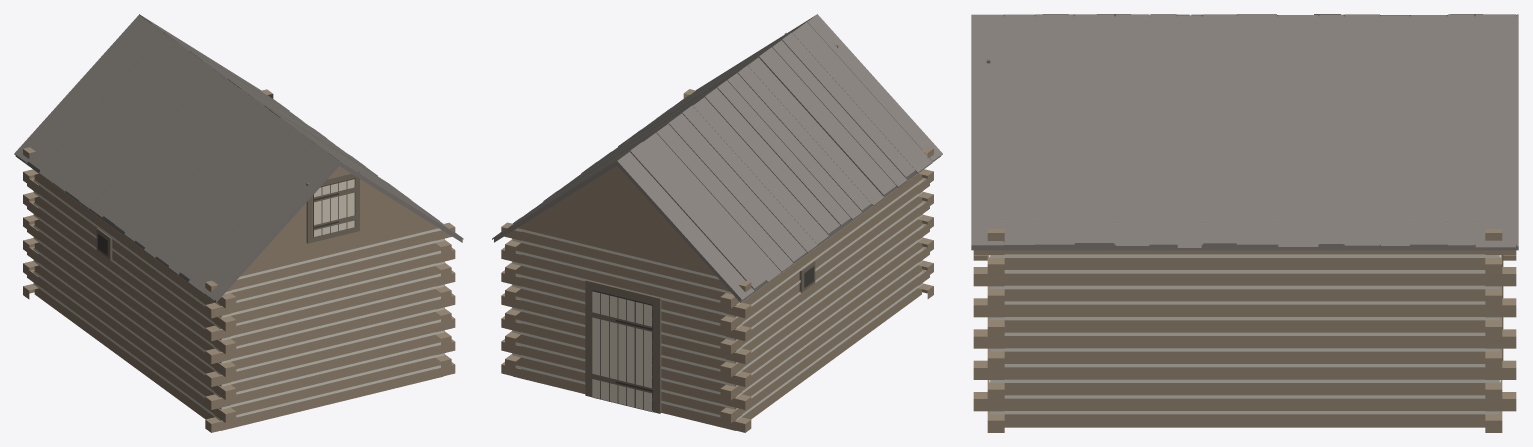
The model's file is recon_1835_blk_south_water_lasalle_a1_14__inferred_1835.glb.
The picture shows the model from 3 angles, left to right: view 1: azimuth 30°, elevation 25°; view 2: azimuth 150°, elevation 25°; view 3: azimuth 270°, elevation 25°; orthographic projection. The views are drawn at different scales.
Visible parts, largest first — view 1: recon_1835_blk_south_water_lasalle_a1_14__inferred_1835; view 2: recon_1835_blk_south_water_lasalle_a1_14__inferred_1835; view 3: recon_1835_blk_south_water_lasalle_a1_14__inferred_1835.
Part boxes in pixels (x1,y1,x2,y2): recon_1835_blk_south_water_lasalle_a1_14__inferred_1835: [14, 14, 463, 432]; recon_1835_blk_south_water_lasalle_a1_14__inferred_1835: [492, 14, 942, 432]; recon_1835_blk_south_water_lasalle_a1_14__inferred_1835: [971, 14, 1518, 432].
Bounding box in the file's own units: 5.63 × 5.32 × 7.77.
